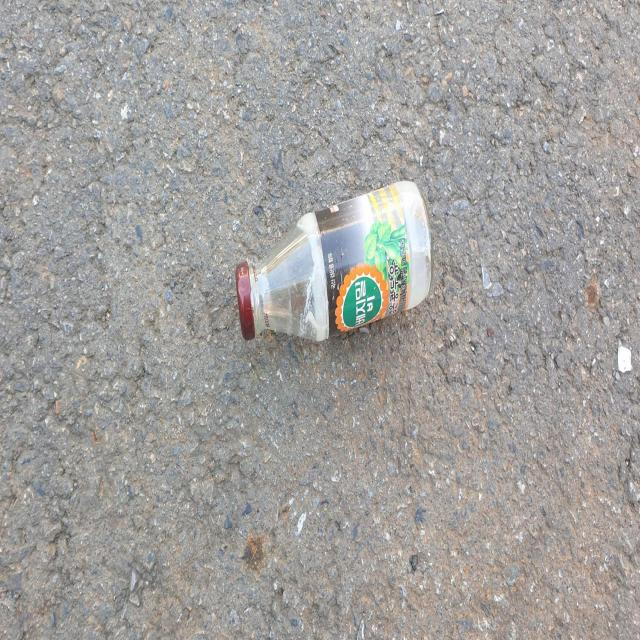glass: (236, 180, 433, 341)
